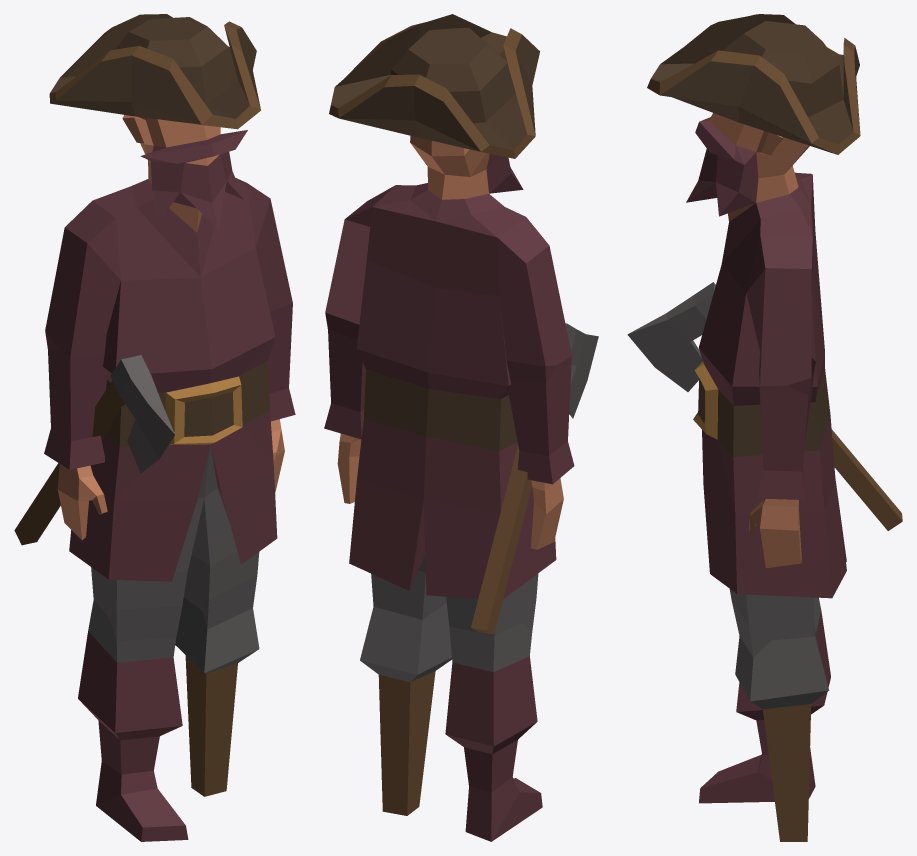
The model's file is man-pirate-hat.fbx.
The picture shows the model from 3 angles, left to right: view 1: azimuth 30°, elevation 25°; view 2: azimuth 150°, elevation 25°; view 3: azimuth 270°, elevation 25°; orthographic projection.
Parts seen in each view (by area): view 1: man-pirate-hat; view 2: man-pirate-hat; view 3: man-pirate-hat.
Boxes of the visible parts, bbox=[...] form: man-pirate-hat: bbox=[14, 14, 295, 841]; man-pirate-hat: bbox=[324, 14, 598, 841]; man-pirate-hat: bbox=[627, 14, 902, 841].
Size of the model in its own units: 0.5839 by 1.89 by 0.6031.
